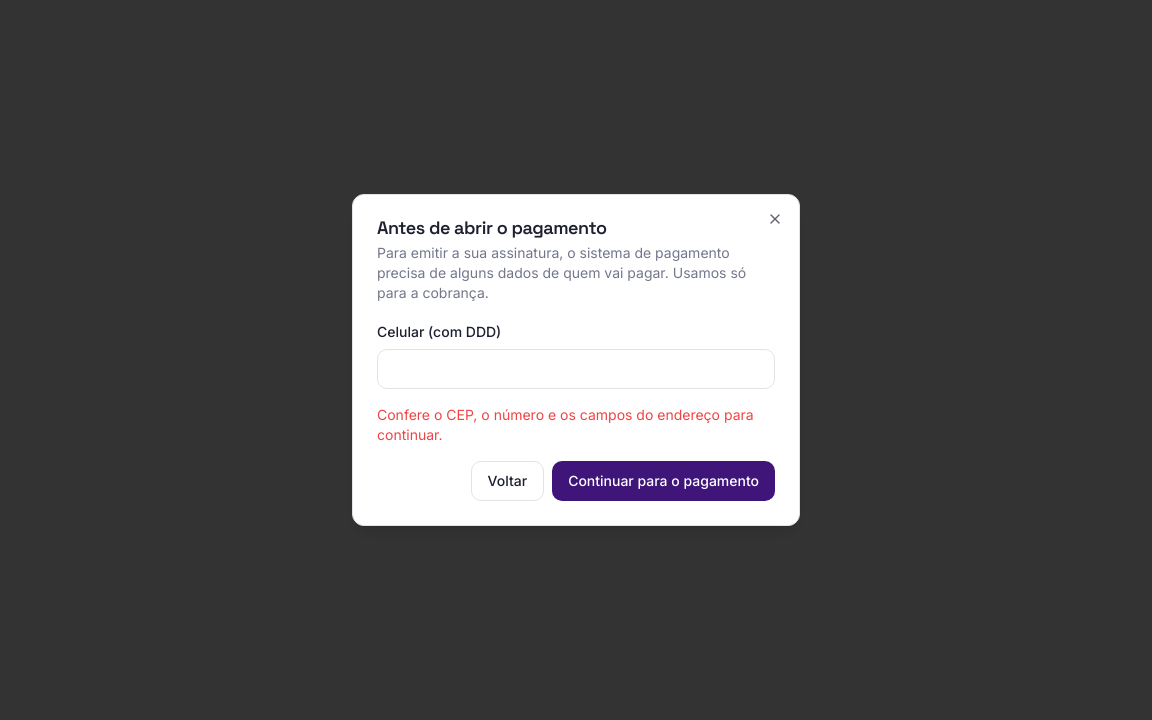
billing dialog › incomplete CEP blocked without lookup and invalid phone blocked
Earlier steps of the test are not shown.
Type "01987654321" into the field labelled "Celular (com DDD)".
click(576, 369); type("01987654321")  # box [377,349,775,389]
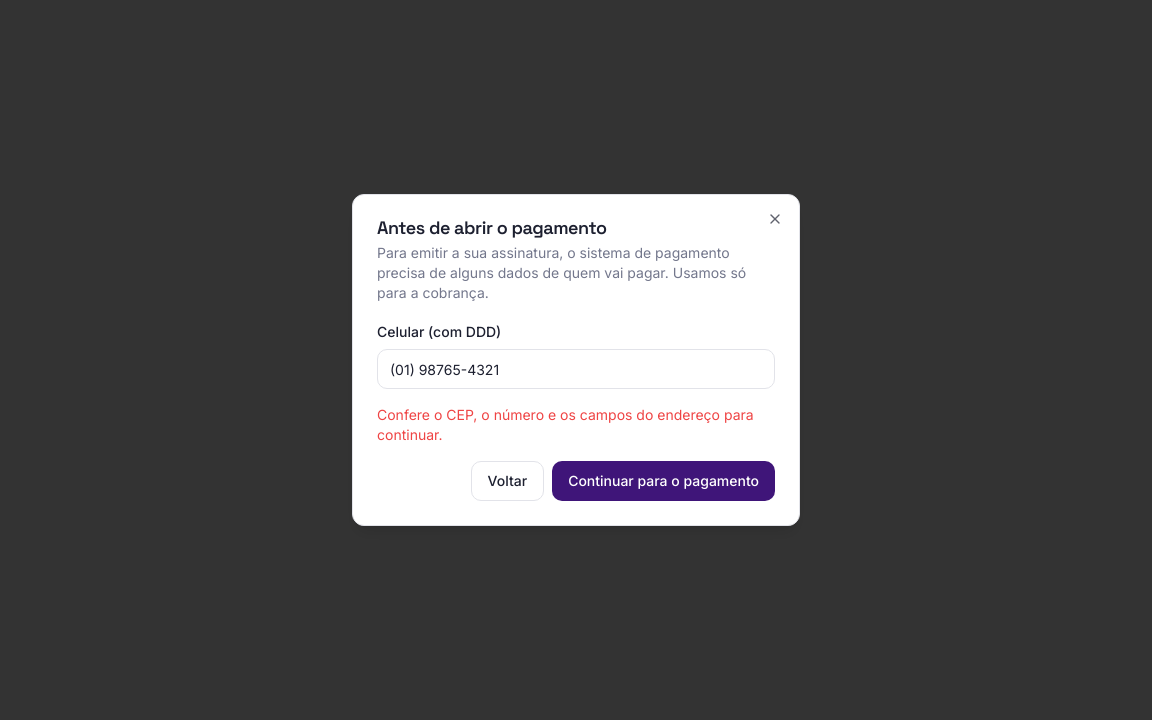
Click the button "Continuar para o pagamento".
click(664, 481)  # box [552,461,775,501]
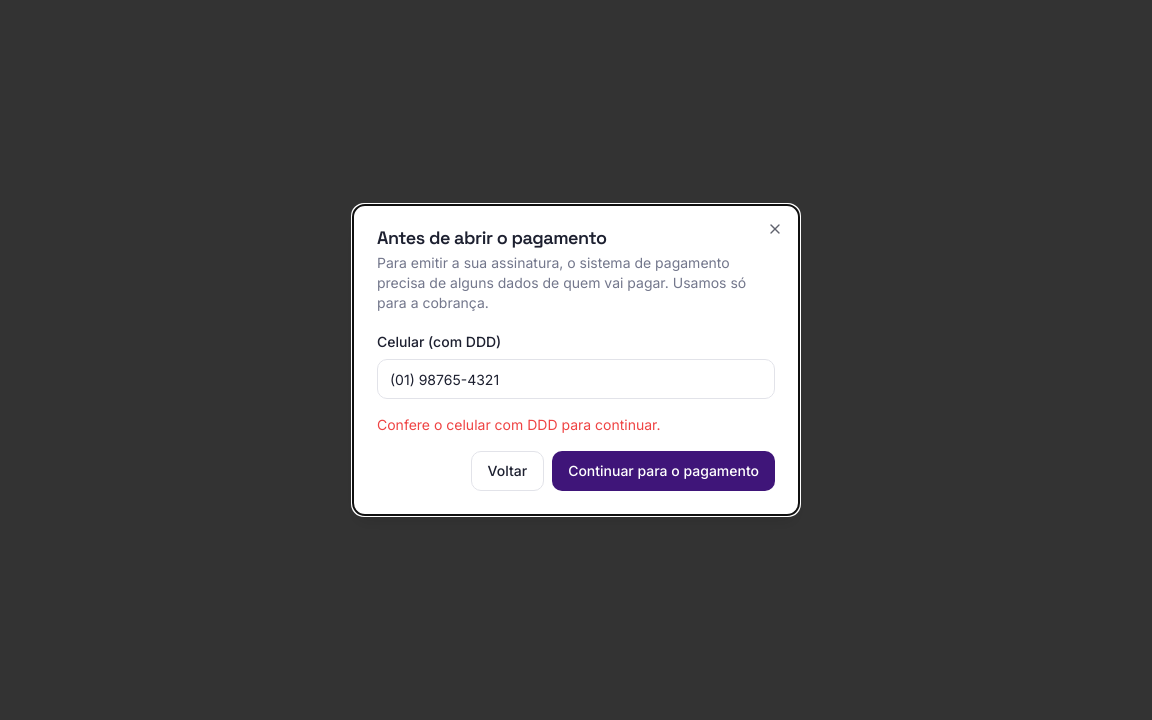
Now the text "Confere o celular com DDD para continuar." is shown, box [377,416,660,433]
